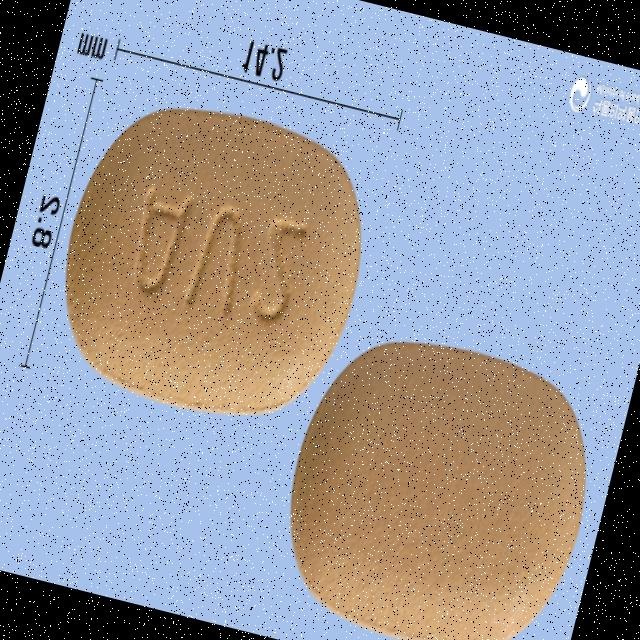Exviera: (36, 80, 390, 443)
